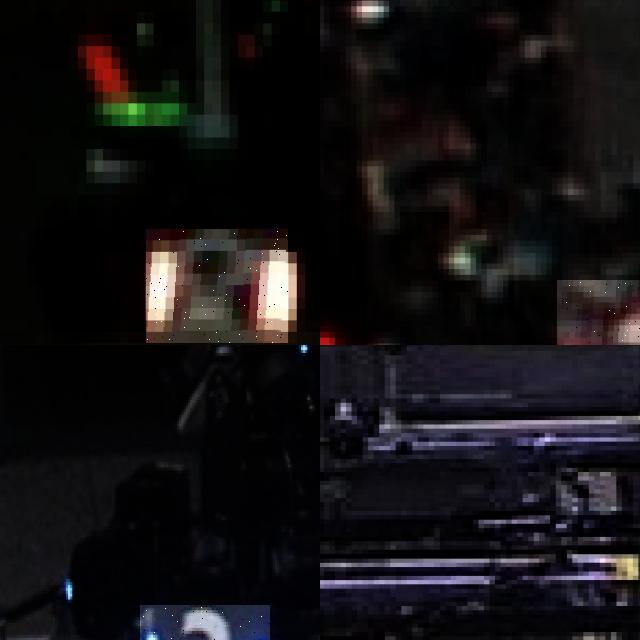B3: (139, 605, 270, 640)
R1: (557, 280, 640, 345)
Rs: (146, 229, 288, 343)
